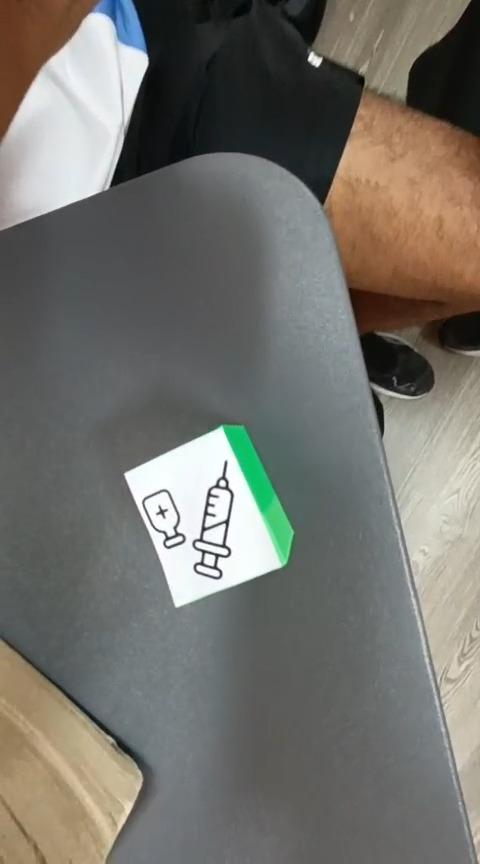antiseptic cream: (122, 422, 295, 608)
